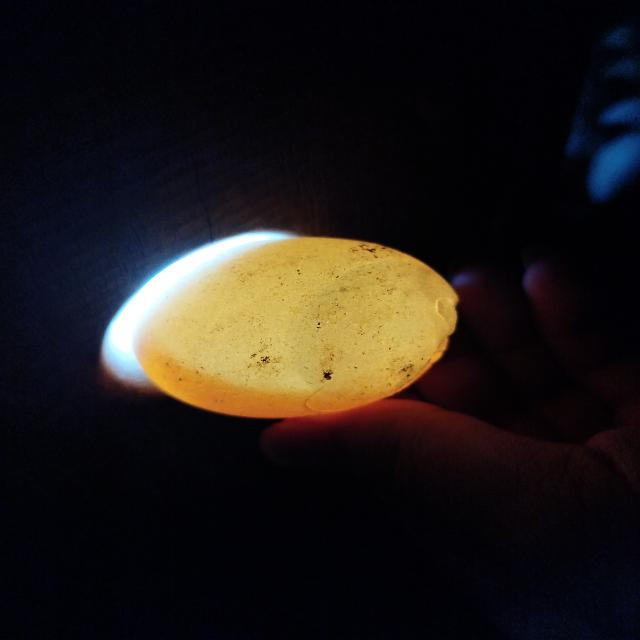Camara de Ar: (291, 260, 452, 392)
Gema Quebrada: (130, 336, 381, 418)
Rachadura: (390, 295, 459, 394)
